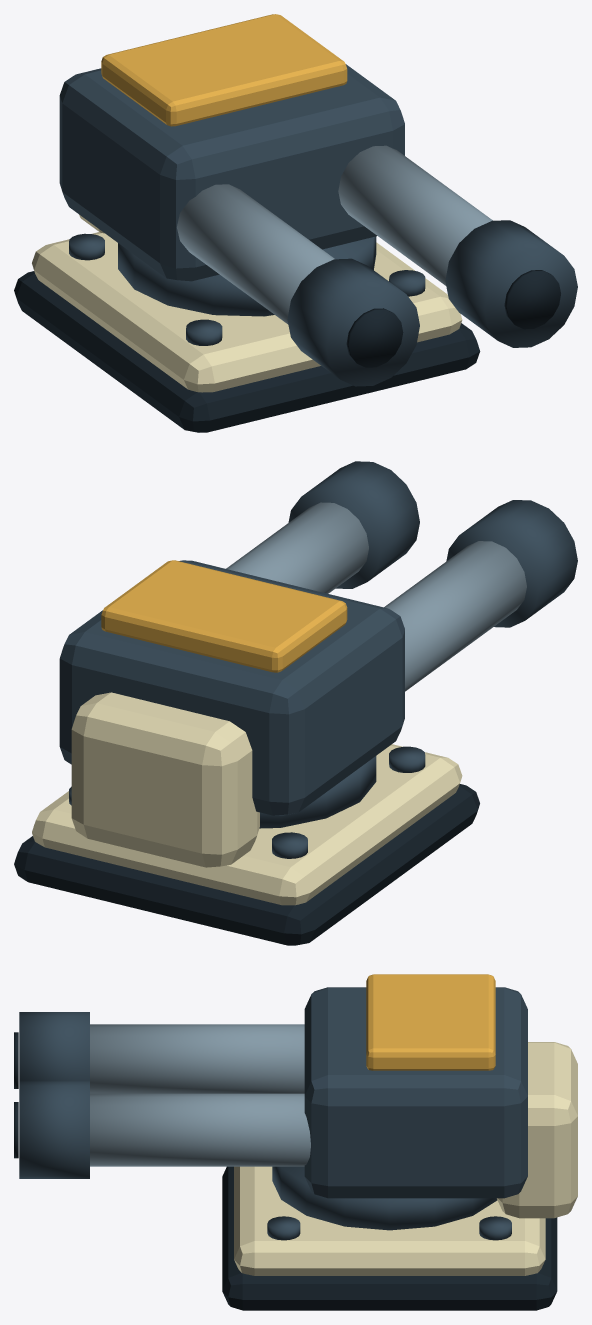
File: twin_blaster.glb
3 renders of one model, top to bottom at view 1: azimuth 30°, elevation 25°; view 2: azimuth 150°, elevation 25°; view 3: azimuth 270°, elevation 25°, orthographic. The views are drawn at different scales.
Visible parts, largest first — view 1: PitchMesh, twin_blasterMesh, YawMesh; view 2: PitchMesh, twin_blasterMesh, YawMesh; view 3: PitchMesh, twin_blasterMesh, YawMesh.
Part boxes in pixels (box(x1,y1,x2,y2)): PitchMesh: box(59, 14, 577, 386); twin_blasterMesh: box(14, 232, 480, 432); YawMesh: box(118, 236, 376, 316); PitchMesh: box(59, 461, 577, 867); twin_blasterMesh: box(14, 744, 479, 945); YawMesh: box(259, 756, 376, 828); PitchMesh: box(14, 974, 577, 1218); twin_blasterMesh: box(222, 1166, 557, 1310); YawMesh: box(272, 1166, 497, 1230).
Size of the model in its own units: 0.53 by 0.4525 by 0.959.
